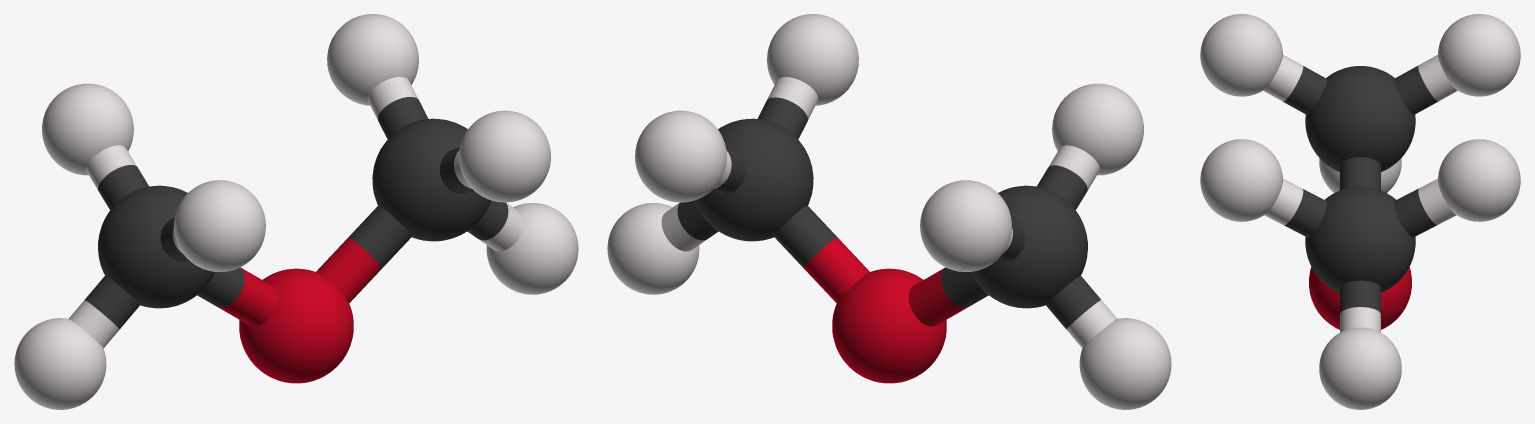
The picture shows the model from 3 angles, left to right: view 1: azimuth 30°, elevation 25°; view 2: azimuth 150°, elevation 25°; view 3: azimuth 270°, elevation 25°; orthographic projection. The views are drawn at different scales.
Visible parts, largest first — view 1: 对象003; view 2: 对象003; view 3: 对象003.
Boxes of the visible parts, left/top/right/bottom form: 对象003: left=14, top=14, right=578, bottom=409; 对象003: left=607, top=14, right=1171, bottom=409; 对象003: left=1200, top=14, right=1520, bottom=409.
Size of the model in its own units: 41.54 by 19.91 by 23.21.
3 materials, 3 textured.
